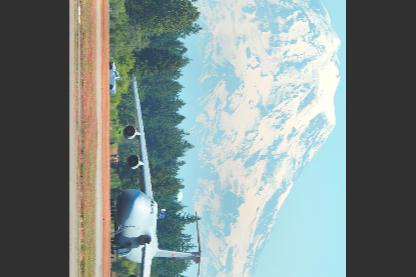C17: (110, 73, 204, 275)
